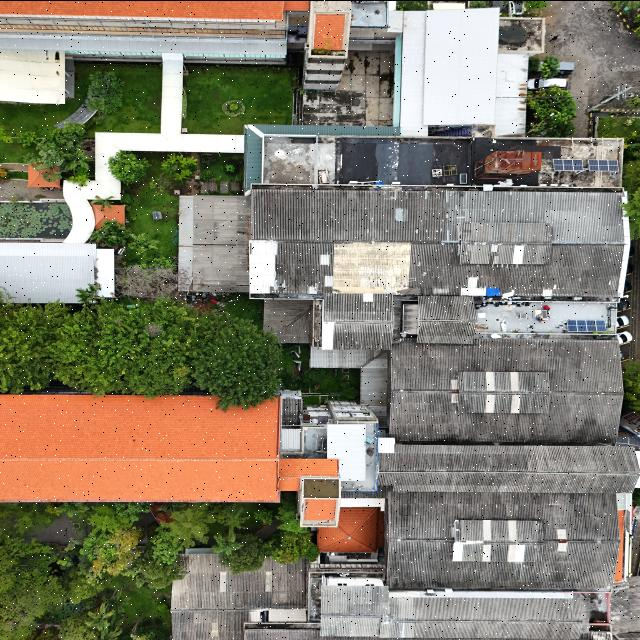Tree: (104, 146, 156, 186), (526, 88, 574, 128), (84, 600, 115, 629), (126, 231, 156, 257), (520, 0, 550, 10), (0, 118, 11, 145)
